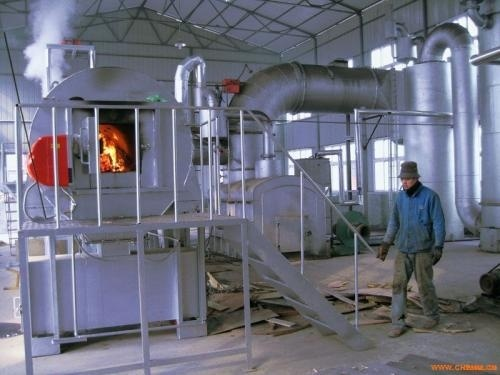fire: (98, 126, 127, 170)
